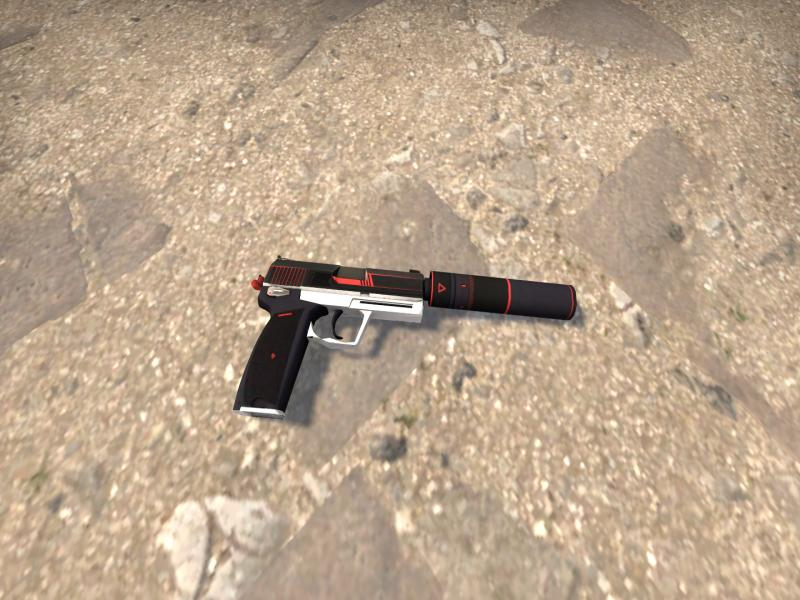USP: (235, 258, 576, 416)
